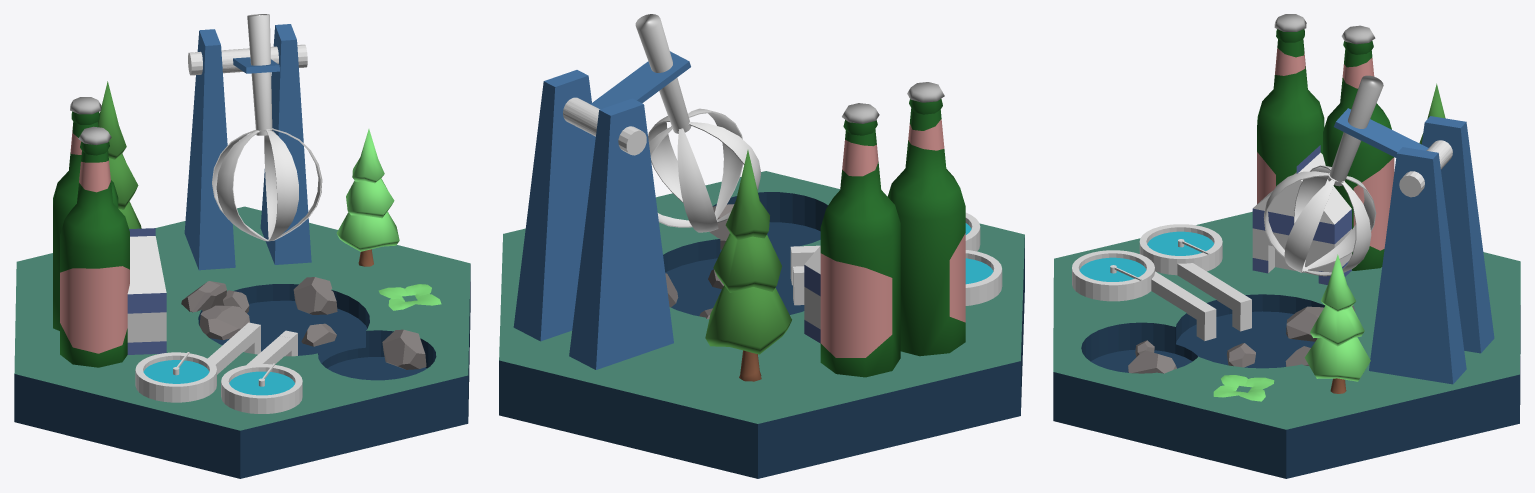
Rendered from Macro - Mineral lvl 3 WM3 rev.fbx.
3 views of the same model, side by side, from view 1: azimuth 30°, elevation 25°; view 2: azimuth 150°, elevation 25°; view 3: azimuth 270°, elevation 25° (orthographic). The views are drawn at different scales.
Parts seen in each view (by area): view 1: Cylinder.020, drink_003.001, Cube.002, Cube.001, Circle.001, milkbox2.002, Tree_Spruce_tiny_01.004, drink_003, Rock Type2 02 mesh.002, Cylinder.117, Cylinder.142, Tree_Spruce_tiny_01.003 (+11 smaller); view 2: Cylinder.020, Cube.002, drink_003, drink_003.001, Cube.001, Tree_Spruce_tiny_01.003, Circle.001, Cylinder.003, Cube.004, Cylinder.002, milkbox2.002, Cylinder.117; view 3: Cylinder.020, Cube.001, drink_003.001, Cube.002, drink_003, Circle.001, milkbox2.002, Tree_Spruce_tiny_01.004, Cylinder.142, Cylinder.117, Cylinder.003, Cube.004 (+11 smaller).
Part boxes in pixels (<box>): Cylinder.020: <box>14,206,470,478</box>; drink_003.001: <box>60,126,129,367</box>; Cube.002: <box>184,29,235,270</box>; Cube.001: <box>260,24,311,264</box>; Circle.001: <box>212,128,322,241</box>; milkbox2.002: <box>127,228,166,354</box>; Tree_Spruce_tiny_01.004: <box>336,129,399,266</box>; drink_003: <box>53,97,118,330</box>; Rock Type2 02 mesh.002: <box>181,281,249,339</box>; Cylinder.117: <box>135,352,216,402</box>; Cylinder.142: <box>221,364,302,413</box>; Tree_Spruce_tiny_01.003: <box>98,81,141,228</box>; Cylinder.020: <box>499,171,1024,478</box>; Cube.002: <box>569,98,673,369</box>; drink_003: <box>820,103,900,377</box>; drink_003.001: <box>887,82,965,356</box>; Cube.001: <box>513,70,595,341</box>; Tree_Spruce_tiny_01.003: <box>705,150,791,381</box>; Circle.001: <box>648,108,761,232</box>; Cylinder.003: <box>635,14,691,133</box>; Cube.004: <box>590,51,690,109</box>; Cylinder.002: <box>563,97,646,155</box>; milkbox2.002: <box>804,246,820,343</box>; Cylinder.117: <box>965,250,1002,305</box>; Cylinder.020: <box>1053,211,1520,478</box>; Cube.001: <box>1369,147,1466,384</box>; drink_003.001: <box>1257,14,1324,203</box>; Cube.002: <box>1422,116,1494,353</box>; drink_003: <box>1323,25,1394,270</box>; Circle.001: <box>1263,165,1376,276</box>; milkbox2.002: <box>1252,145,1351,284</box>; Tree_Spruce_tiny_01.004: <box>1304,254,1370,393</box>; Cylinder.142: <box>1072,250,1154,301</box>; Cylinder.117: <box>1139,224,1222,275</box>; Cylinder.003: <box>1328,75,1383,186</box>; Cube.004: <box>1334,108,1428,157</box>.
Size of the model in its own units: 197 by 128 by 172.
